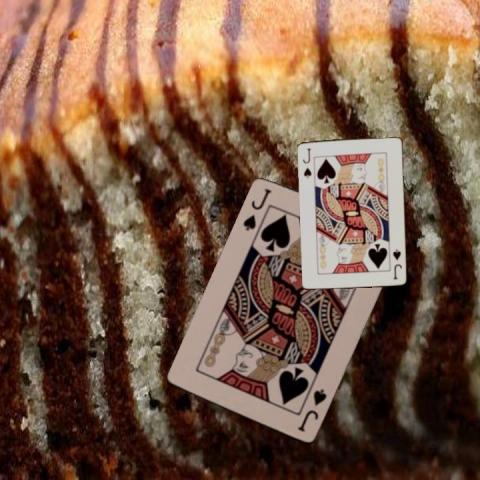Js: (294, 386, 328, 434), (240, 185, 273, 233), (390, 246, 403, 281), (300, 145, 313, 180)
